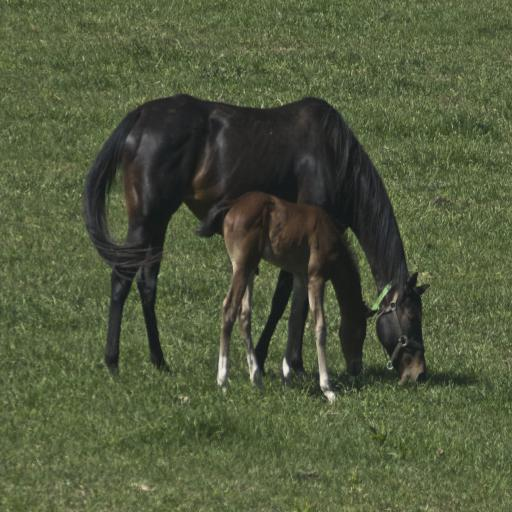horse: (81, 98, 428, 386), (194, 190, 380, 406)
